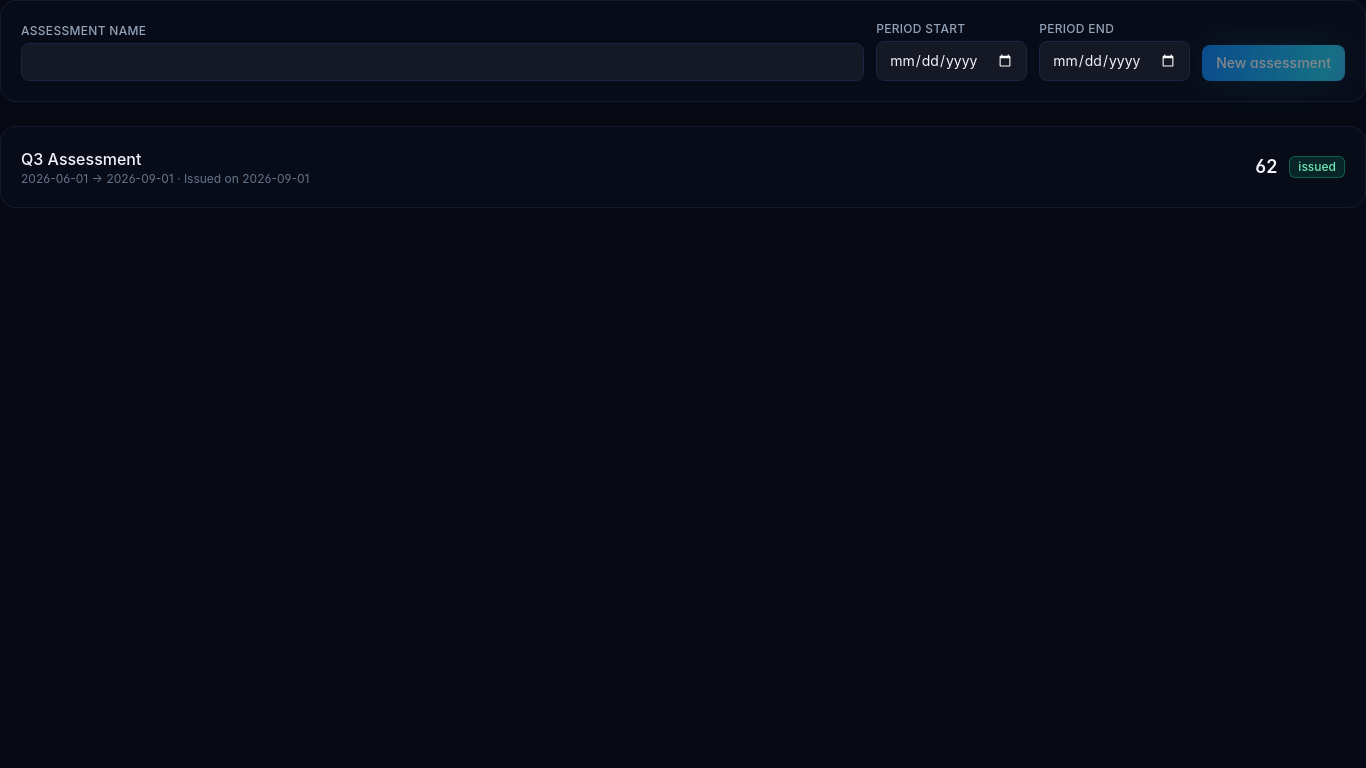
Test: AssessmentsTab — a draft has NOT measured anything › does NOT offer the Issue action for an already-issued assessment
Click the button "Q3 Assessment" at (81, 159), box [21,147,1345,187]
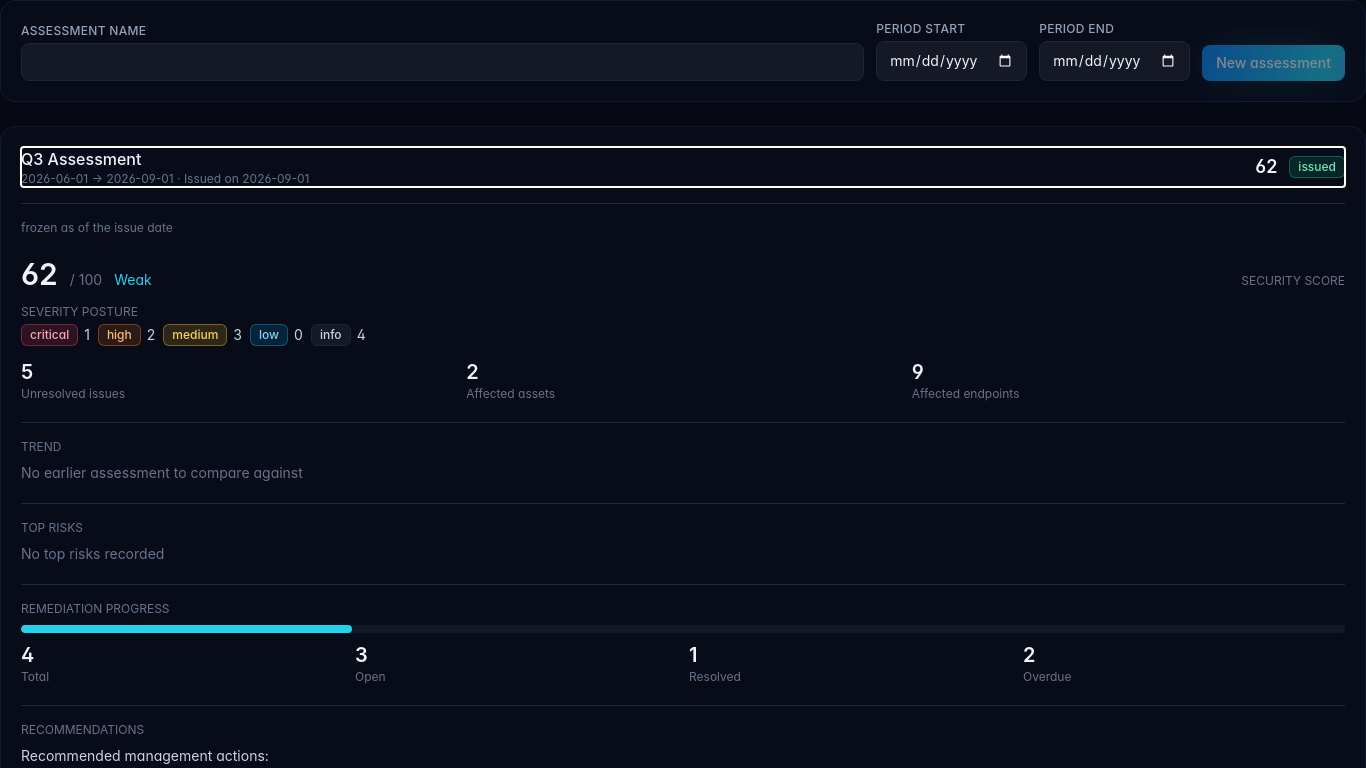
expect the text "frozen as of the issue date" is shown: met, box [21,220,173,235]
